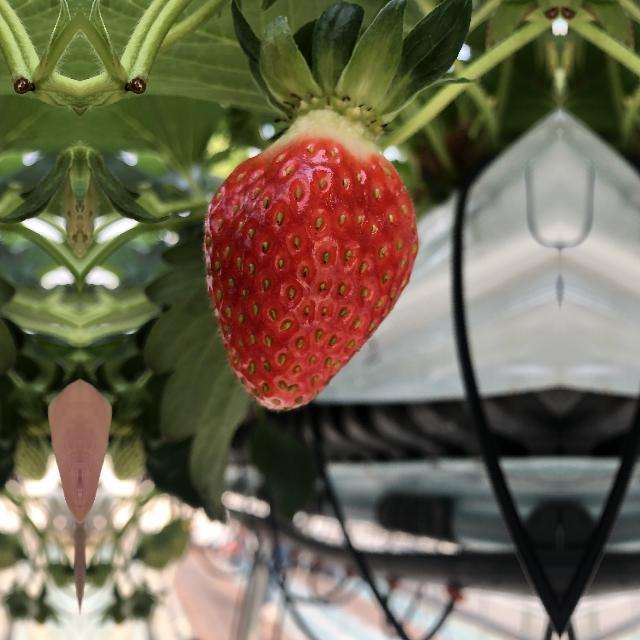Health_100: (182, 111, 420, 421)
